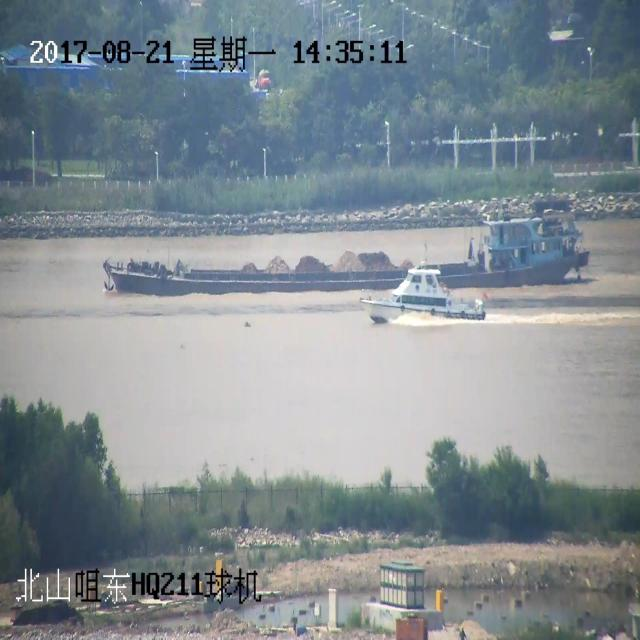cargoship: (103, 221, 580, 319)
passenger ship: (356, 259, 478, 331)
